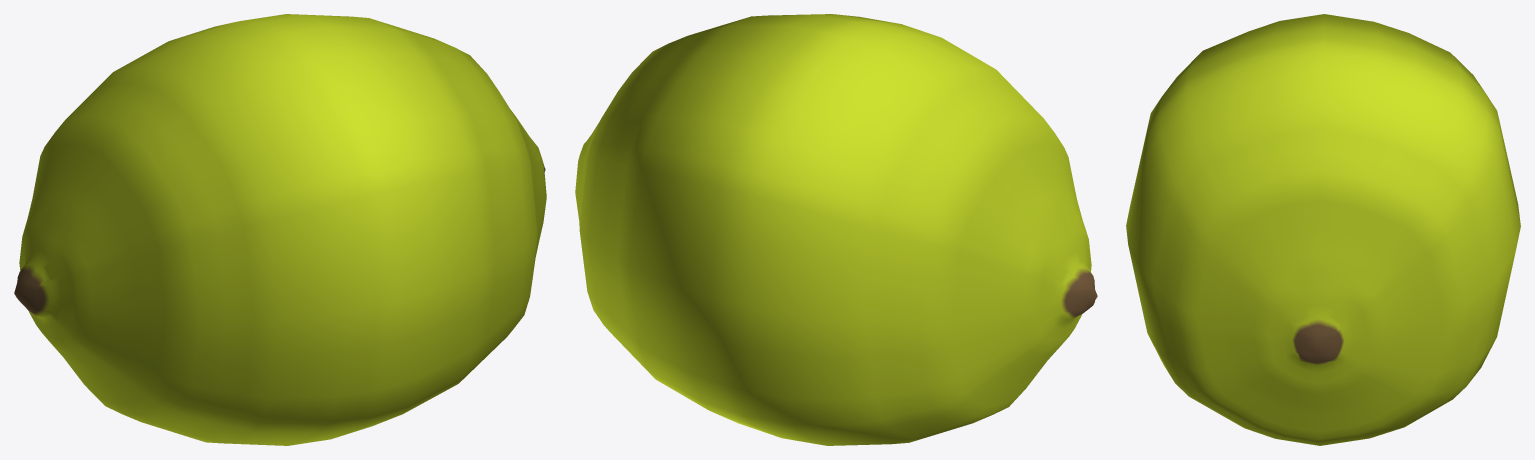
File: lemon_remake-BvTXj1CQ.glb
3 views of the same model, side by side, from view 1: azimuth 30°, elevation 25°; view 2: azimuth 150°, elevation 25°; view 3: azimuth 270°, elevation 25° (orthographic). The views are drawn at different scales.
Parts seen in each view (by area): view 1: Object_2; view 2: Object_2; view 3: Object_2.
Part boxes in pixels (x1,y1,x2,y2): Object_2: [14, 14, 546, 445]; Object_2: [575, 14, 1097, 445]; Object_2: [1126, 14, 1520, 445].
Size of the model in its own units: 2.36 by 1.68 by 1.62.
Materials: 1 (1 with a texture image).
